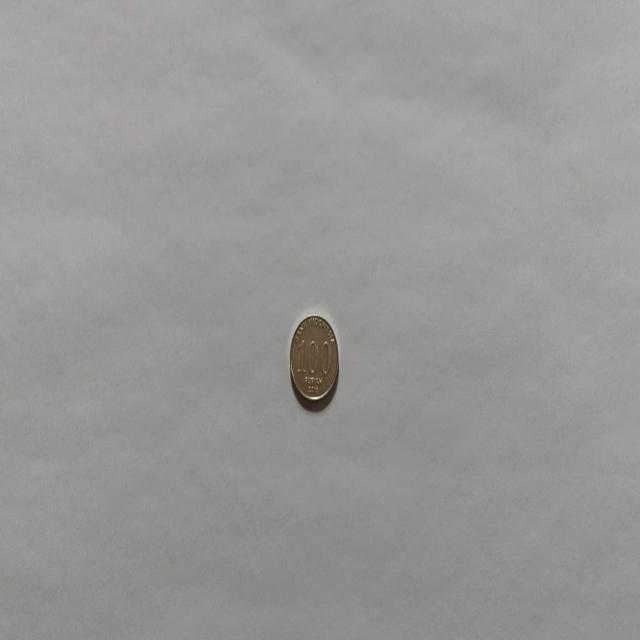seratus rupiah: (288, 313, 339, 408)
